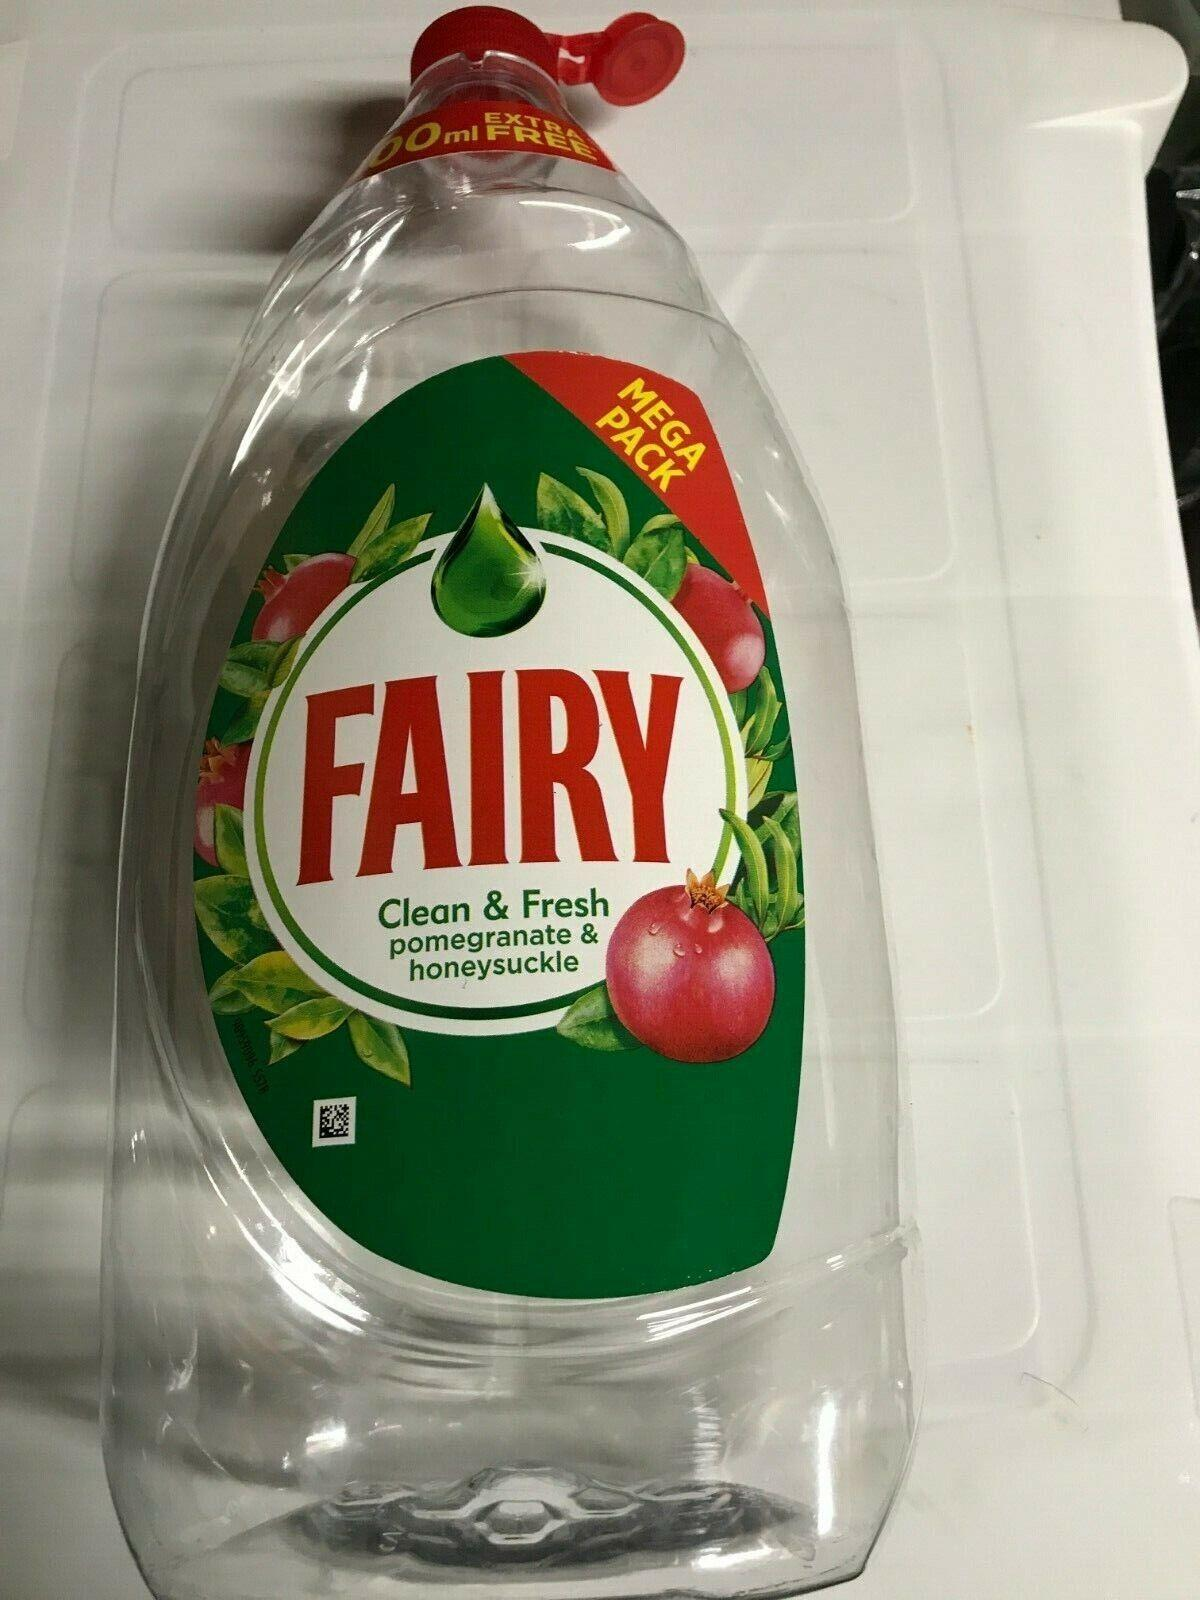plastic: (106, 6, 913, 1599)
